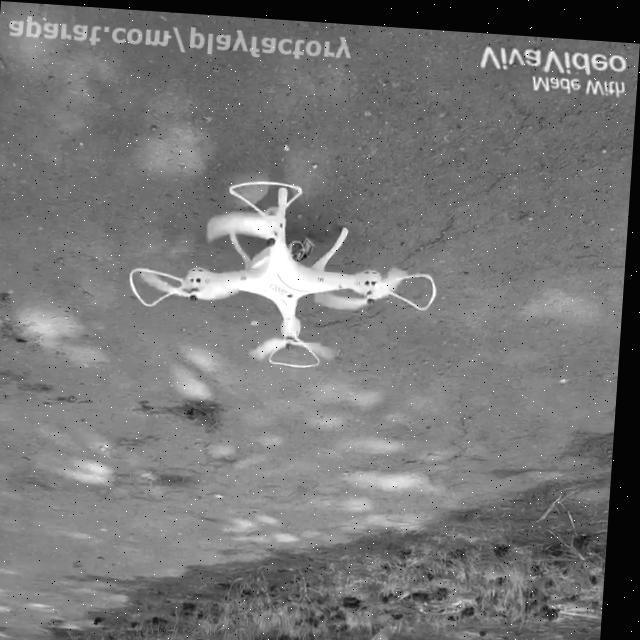drone: (121, 166, 448, 377)
